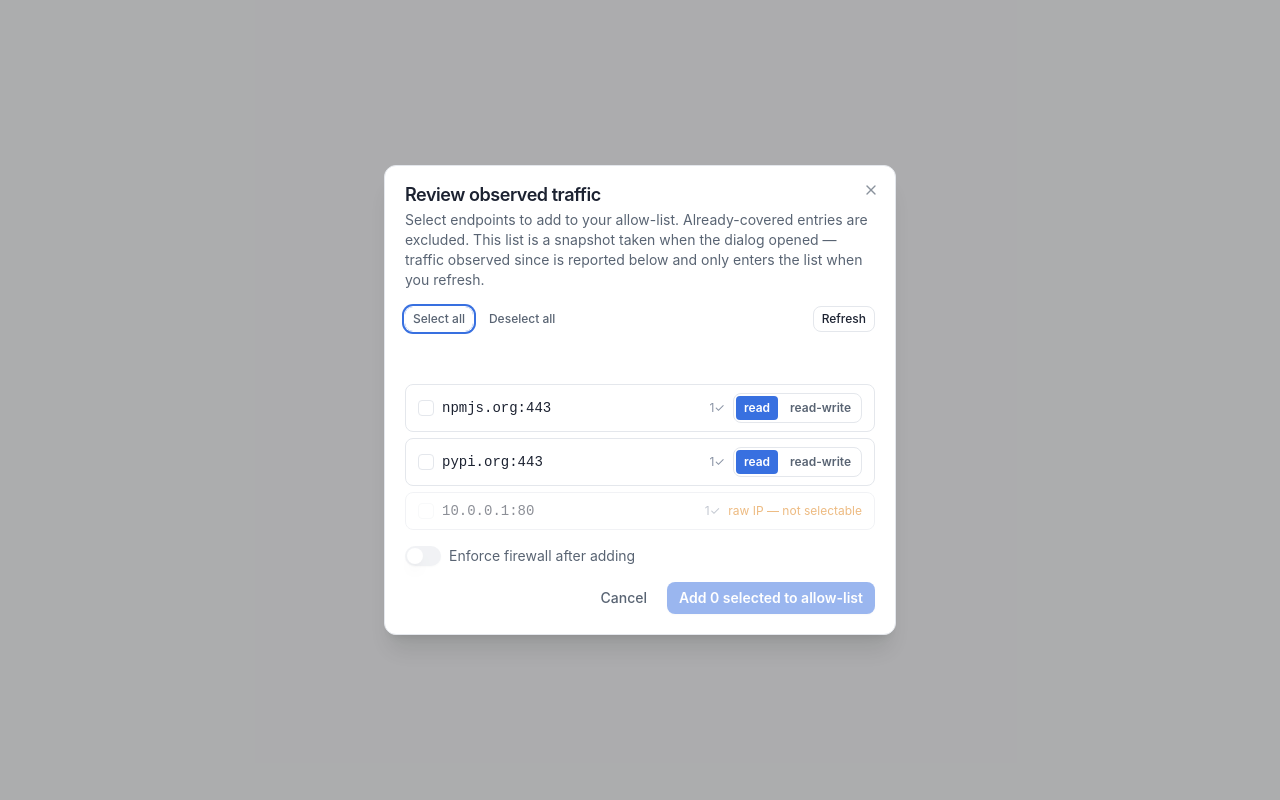
Test: SeedDialog selection (a consent surface: nothing is approved by default) › a single checkbox toggles its own row only and the count follows
The width and height of the screenshot is (1280, 800).
Click the checkbox named "npmjs.org:443": {"x": 426, "y": 408} [418,400,434,416]
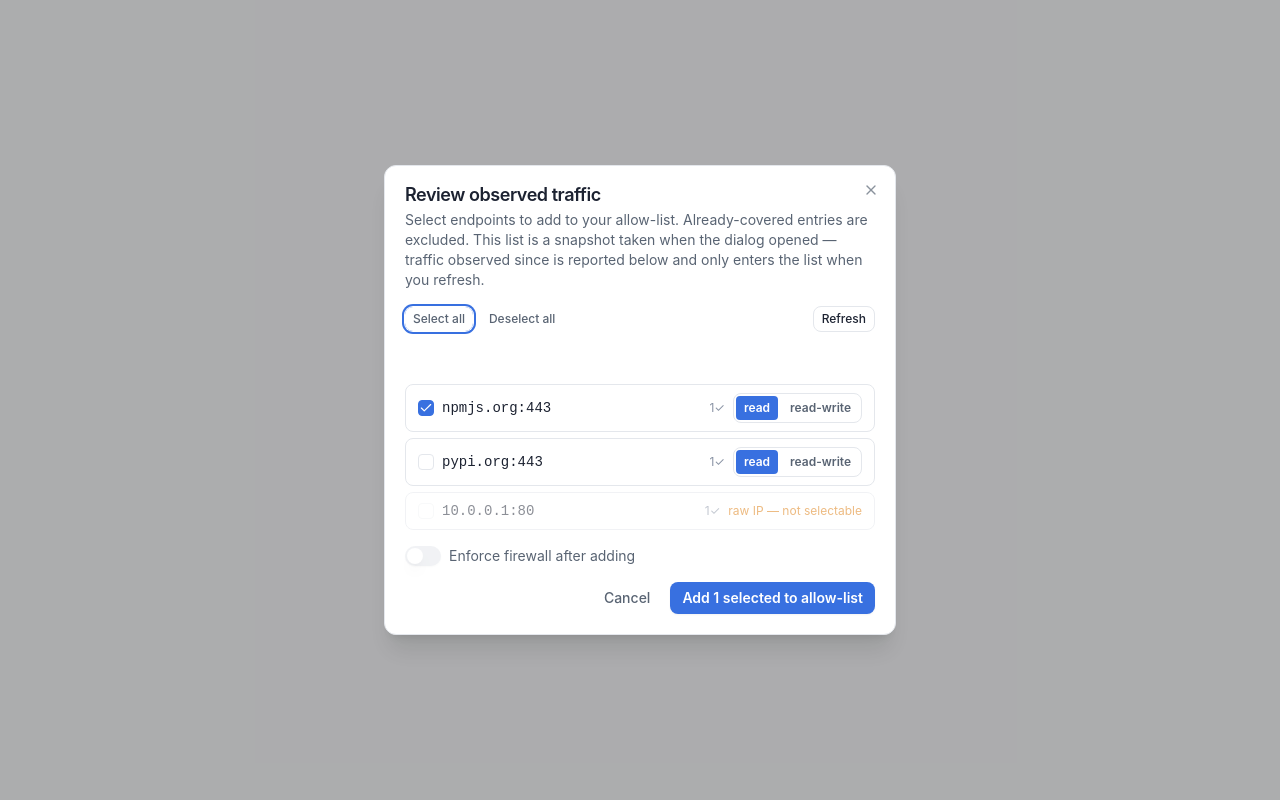
Check: the checkbox named "pypi.org:443" is not checked, box [418,454,434,470]
Check: the checkbox named "npmjs.org:443" is checked
Check: the button "Add 1 selected to allow-list" is shown, box [670,582,875,614]
Click the checkbox named "npmjs.org:443": {"x": 426, "y": 408} [418,400,434,416]
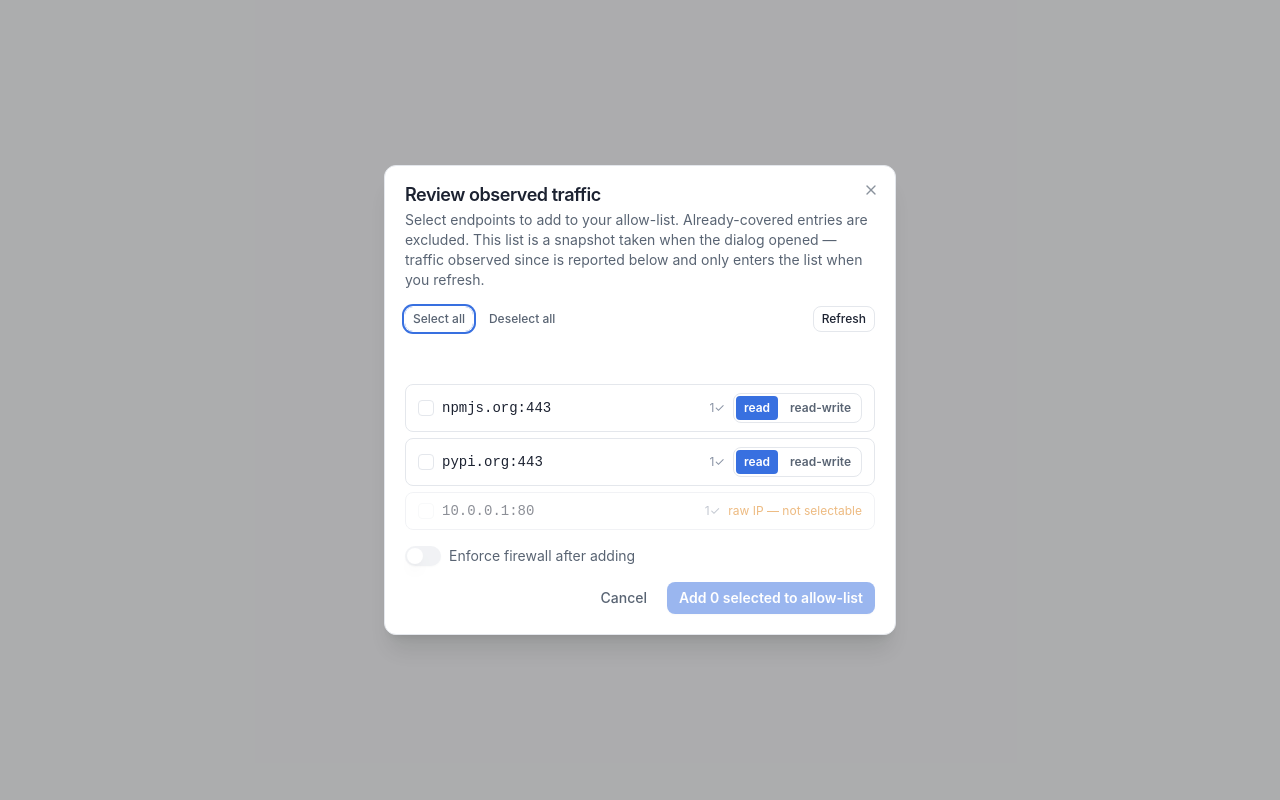
Check: the button "Add 0 selected to allow-list" is shown, box [667,582,875,614]
